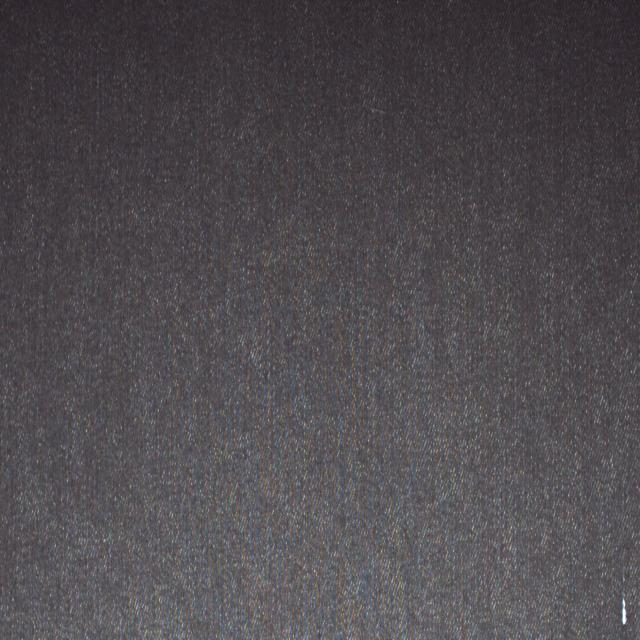Knot: (622, 594, 629, 627)
